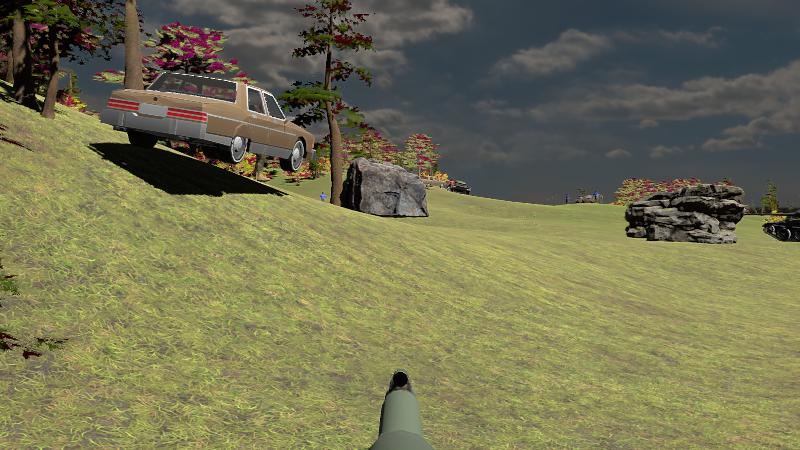Tank: (753, 206, 800, 242)
car: (101, 70, 319, 173)
